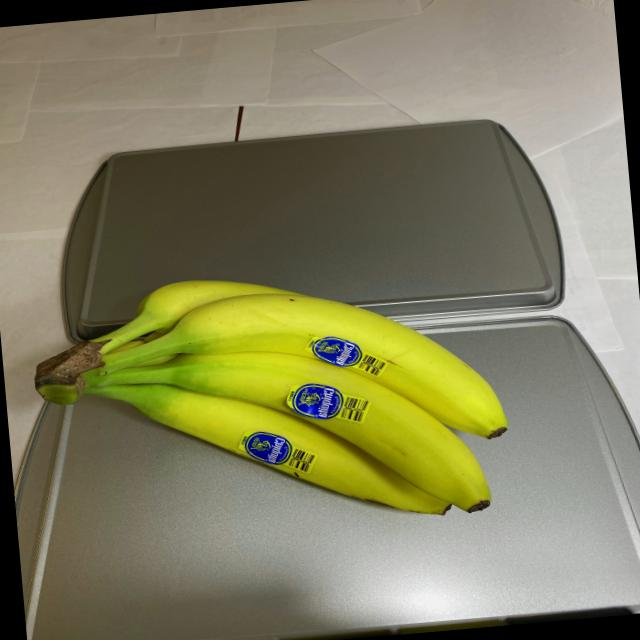banana: (15, 248, 517, 566)
